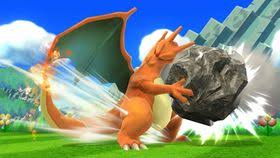charizard: (41, 8, 191, 150)
